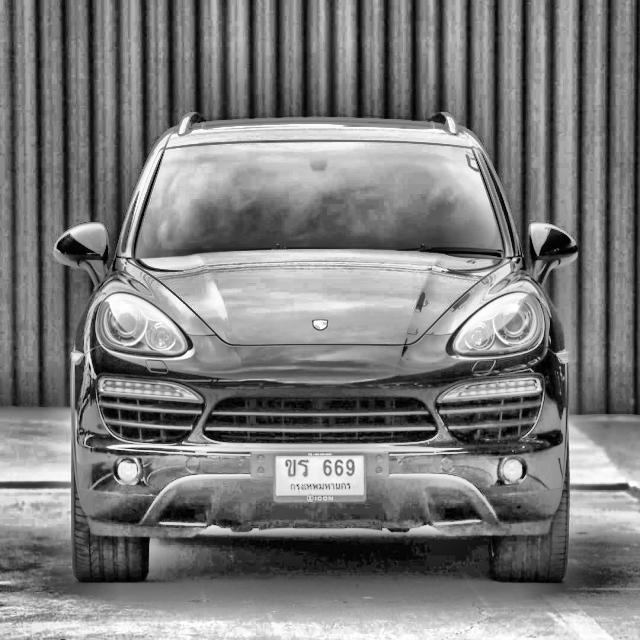license-plate: (273, 452, 367, 504)
